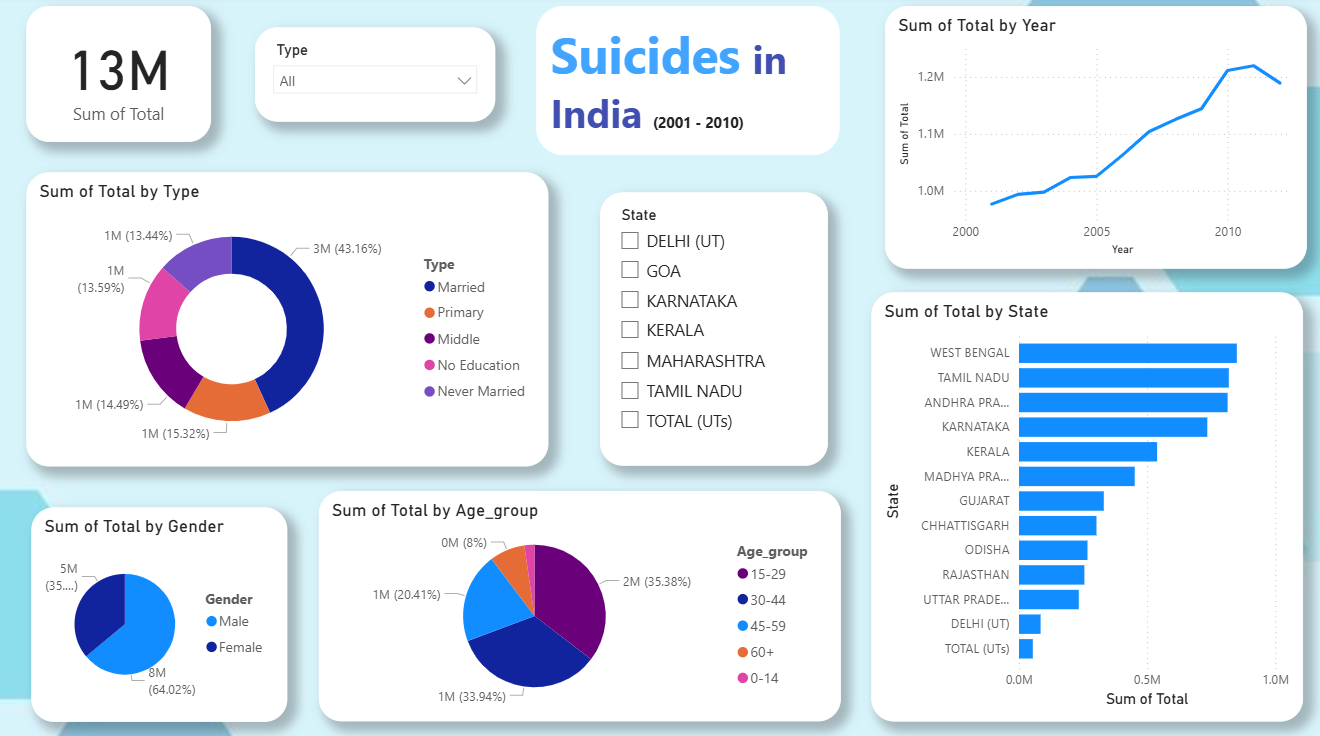

The page's visual inventory and layout, read from the dashboard file:
{"tool":"powerbi","page":{"name":"Page 1","canvas":[1280,720],"ordinal":0},"visuals":[{"type":"pieChart","fields":{"Category":["s_india.Gender"],"Y":["Sum(s_india.Total)"]},"box":[30,492.9,247.1,207.1],"z":0},{"type":"clusteredBarChart","fields":{"Category":["s_india.State"],"Y":["Sum(s_india.Total)"]},"box":[841.4,285.7,417.1,414.3],"z":1000},{"type":"pieChart","fields":{"Category":["s_india.Age_group"],"Y":["Sum(s_india.Total)"]},"box":[307.5,477.5,503.8,222.5],"z":2000},{"type":"donutChart","fields":{"Category":["s_india.Type"],"Y":["Sum(s_india.Total)"]},"box":[25,170,503.8,283.8],"z":3000},{"type":"lineChart","fields":{"Category":["s_india.Year"],"Y":["Sum(s_india.Total)"]},"box":[853.8,10,407.5,253.8],"z":4000},{"type":"card","fields":{"Values":["Sum(s_india.Total)"]},"box":[25,10,178.8,131.2],"z":5000},{"type":"slicer","fields":{"Values":["s_india.State"]},"box":[578.8,190,220,263.8],"z":6000},{"type":"slicer","fields":{"Values":["s_india.Type"]},"box":[246.7,30.3,232.3,90.9],"z":7000},{"type":"textbox","box":[518,10.1,292.9,144.3],"z":8000}]}

Visuals, with their boxes in screenshot pixels (x1, y1, x2, y2), scaled from the page's 1280x720 canvas onto the 1320x736 screenshot:
pieChart - s_india.Gender x Sum(s_india.Total): bbox=(31, 504, 286, 716)
clusteredBarChart - s_india.State x Sum(s_india.Total): bbox=(868, 292, 1298, 716)
pieChart - s_india.Age_group x Sum(s_india.Total): bbox=(317, 488, 837, 716)
donutChart - s_india.Type x Sum(s_india.Total): bbox=(26, 174, 545, 464)
lineChart - s_india.Year x Sum(s_india.Total): bbox=(880, 10, 1301, 270)
card - Sum(s_india.Total): bbox=(26, 10, 210, 144)
slicer - s_india.State: bbox=(597, 194, 824, 464)
slicer - s_india.Type: bbox=(254, 31, 494, 124)
textbox: bbox=(534, 10, 836, 158)
